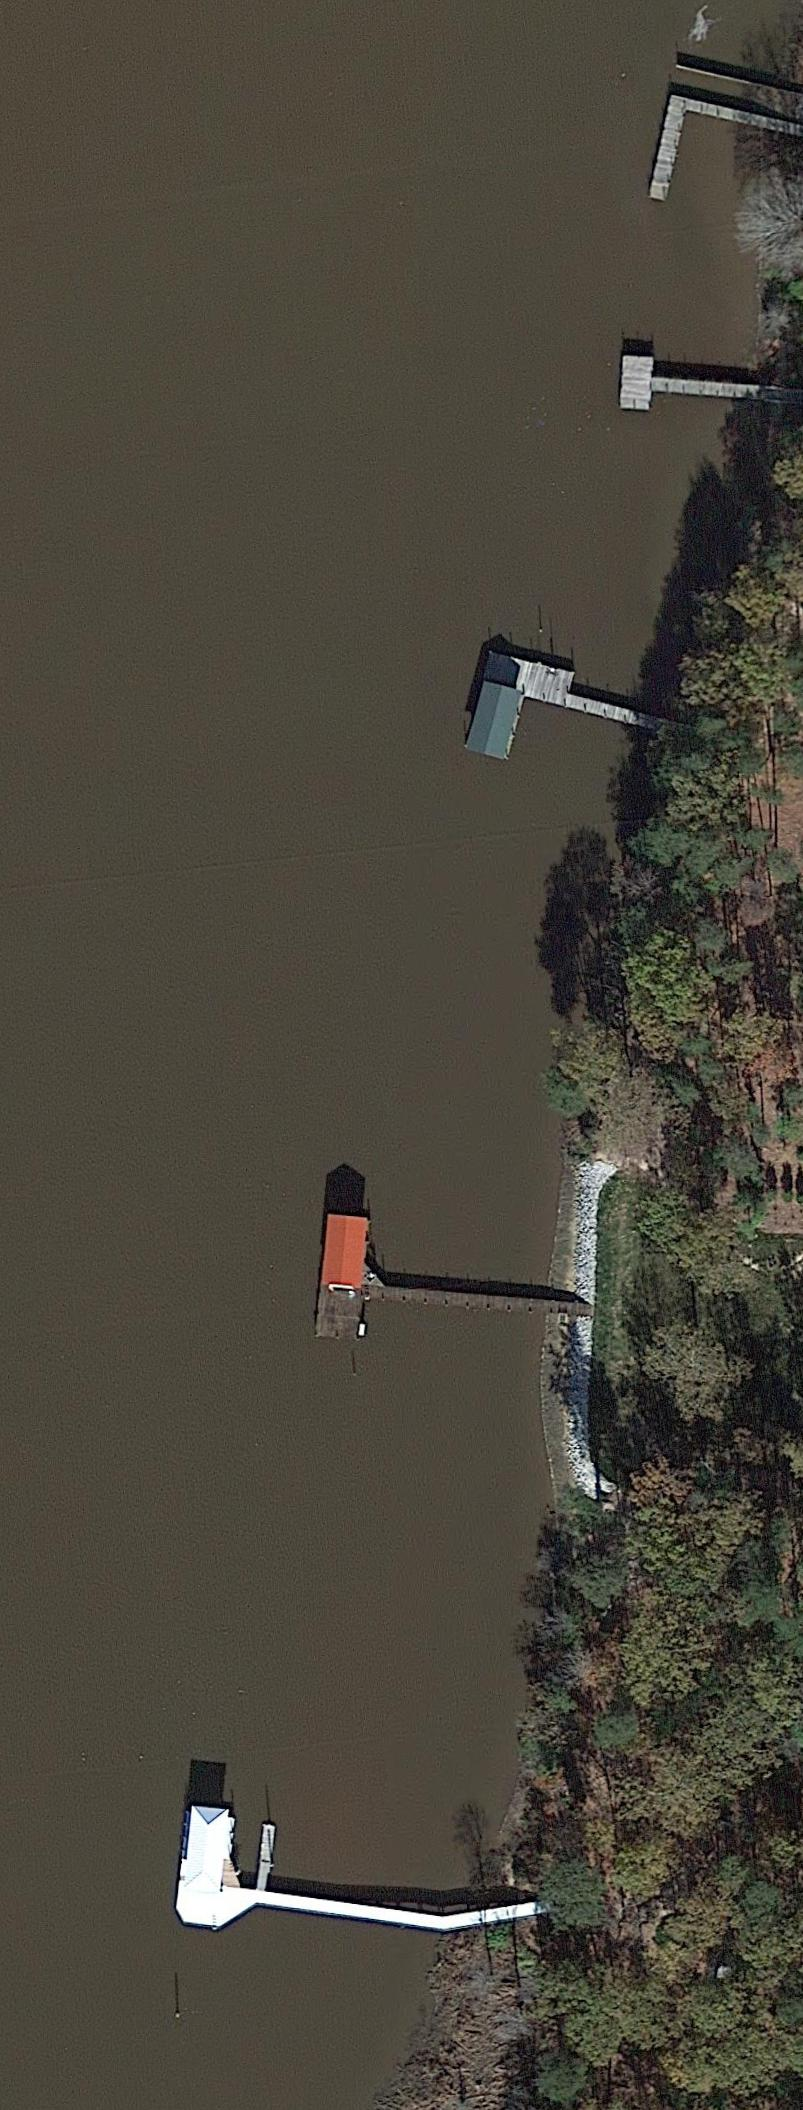harbor: (172, 1806, 455, 1962), (313, 1212, 574, 1370), (465, 654, 678, 798), (647, 94, 803, 234), (619, 355, 777, 419)
